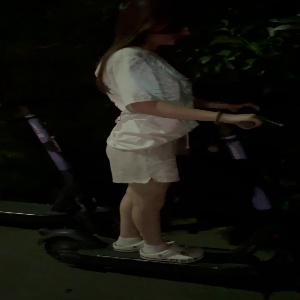human on a scooter: (36, 1, 300, 284)
